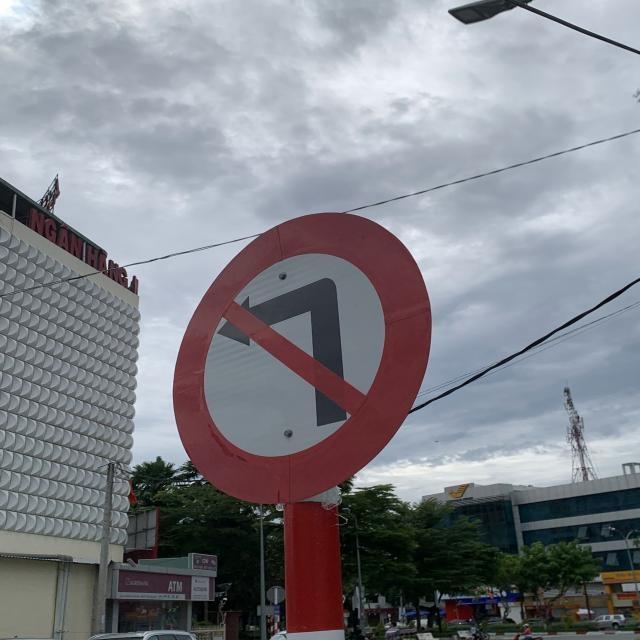Cam_Re_Trai: (173, 211, 431, 507)
